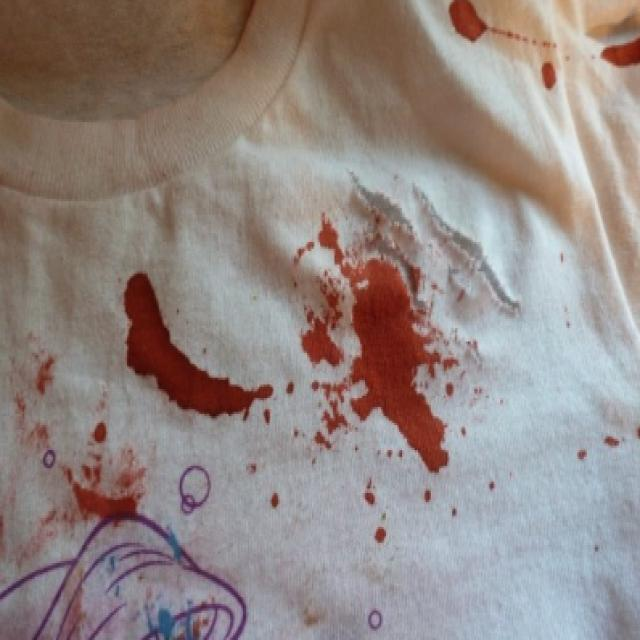blood: (300, 229, 469, 475), (114, 272, 274, 425), (64, 451, 149, 529), (442, 3, 490, 45)
